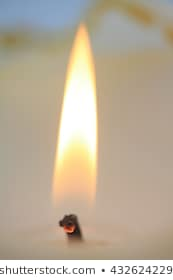Fire: (50, 22, 102, 202)
